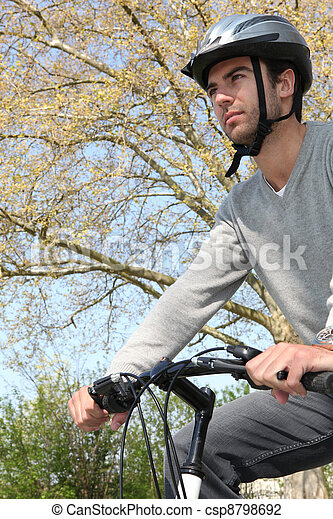helmet: (182, 14, 313, 146)
